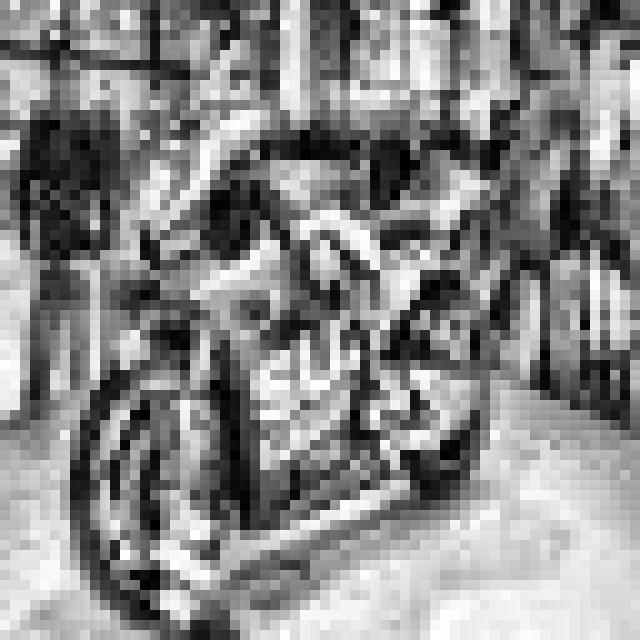mopeds: (66, 101, 546, 627)
